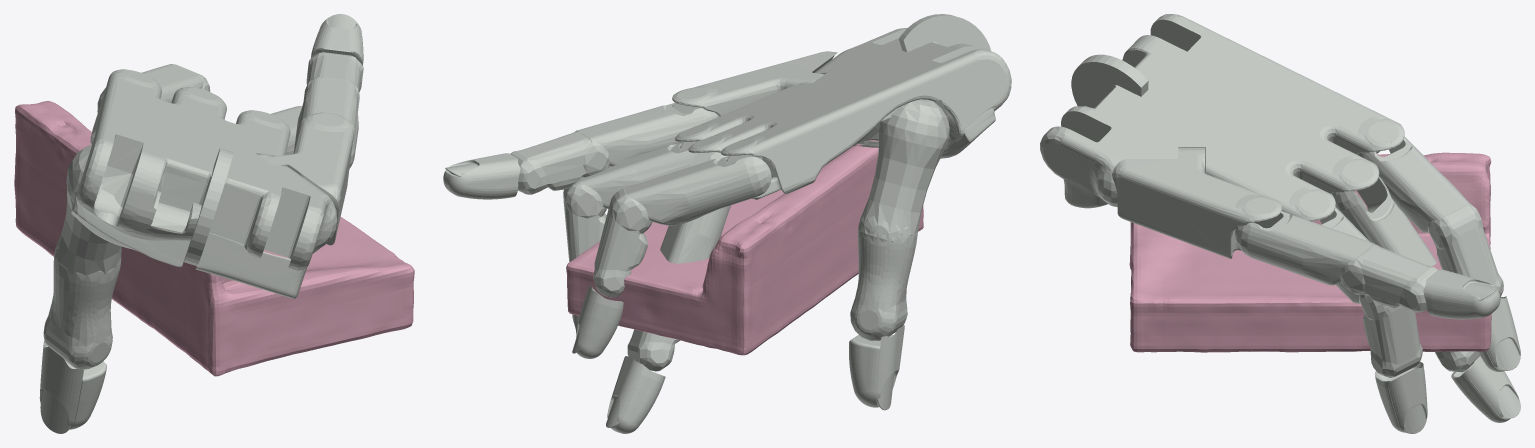
3 renders of one model, left to right at view 1: azimuth 30°, elevation 25°; view 2: azimuth 150°, elevation 25°; view 3: azimuth 270°, elevation 25°, orthographic. The views are drawn at different scales.
Parts seen in each view (by area): view 1: hand_isaac_q, world; view 2: hand_isaac_q, world; view 3: hand_isaac_q, world.
Part boxes in pixels (bbox=[...]): hand_isaac_q: bbox=[39, 14, 363, 433]; world: bbox=[14, 101, 414, 376]; hand_isaac_q: bbox=[443, 14, 1011, 433]; world: bbox=[566, 140, 923, 355]; hand_isaac_q: bbox=[1040, 14, 1520, 433]; world: bbox=[1129, 152, 1491, 352].
Size of the model in its own units: 0.1716 by 0.1265 by 0.1753.
